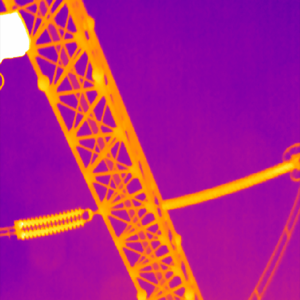insulator: (160, 155, 296, 211), (19, 218, 86, 240), (15, 208, 85, 228)
